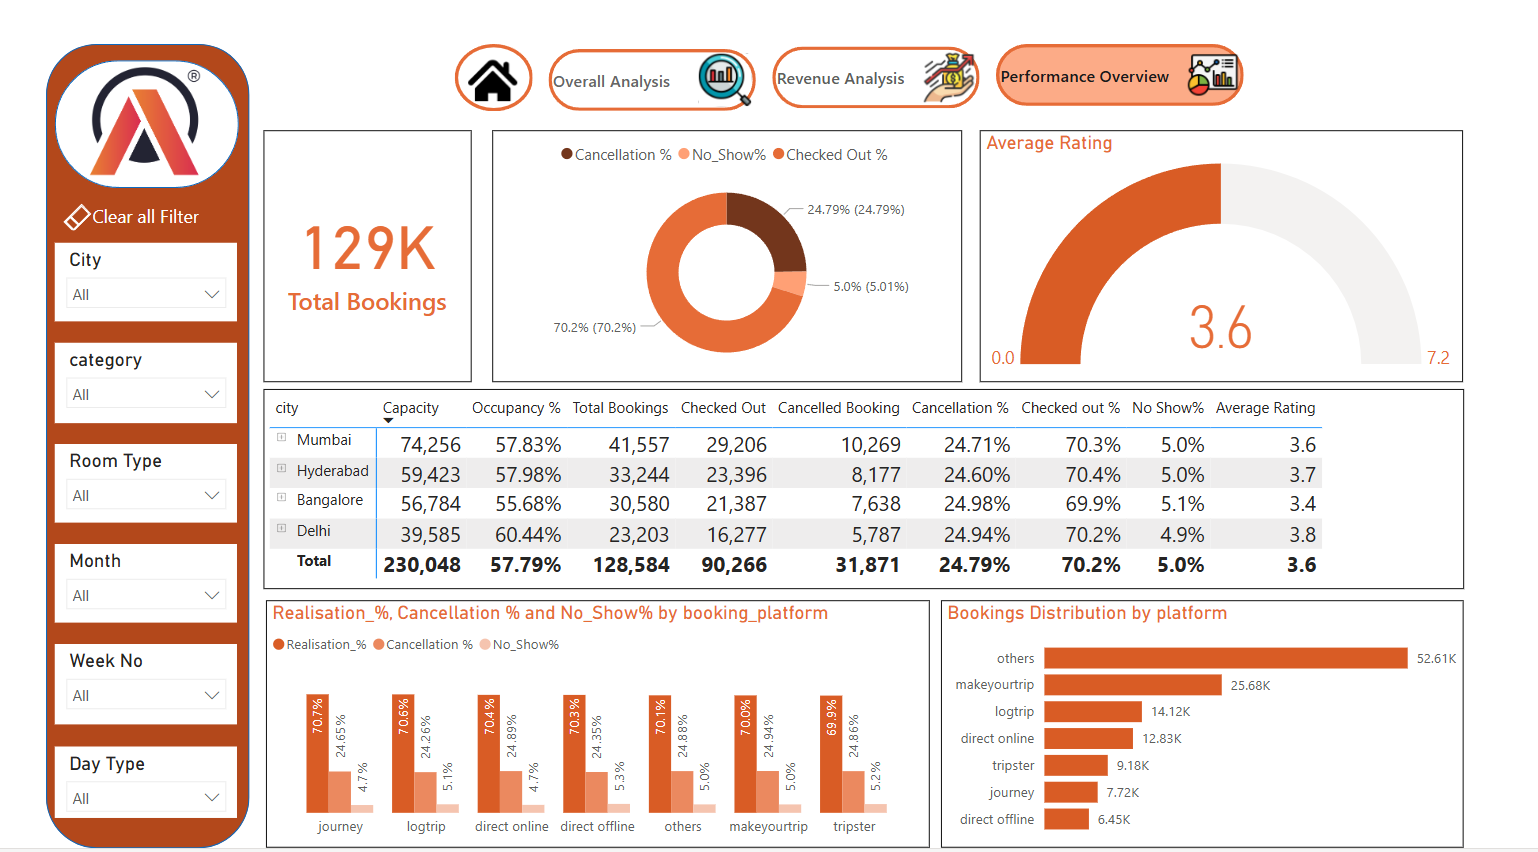

The page's visual inventory and layout, read from the dashboard file:
{"tool":"powerbi","page":{"name":"Performance Overview","canvas":[1280,720],"ordinal":3},"visuals":[{"type":"shape","box":[0,0,182.2,720.2],"z":0},{"type":"shape","box":[7.4,14.8,164.9,114.5],"z":1000},{"type":"image","box":[33.2,11.1,112,114.5],"z":2000},{"type":"slicer","fields":{"Values":["dim_date.week no"]},"box":[8.2,537.3,163.3,72.1],"z":3000},{"type":"slicer","fields":{"Values":["dim_rooms.room_class"]},"box":[8.2,358.3,163.3,70.7],"z":4000},{"type":"slicer","fields":{"Values":["dim_hotels.city"]},"box":[8.2,177.9,163.3,70.7],"z":5000},{"type":"slicer","fields":{"Values":["dim_date.mmm yy"]},"box":[8.2,447.8,163.3,70.7],"z":6000},{"type":"slicer","fields":{"Values":["dim_hotels.category"]},"box":[8.2,267.4,163.3,72.1],"z":7000},{"type":"actionButton","box":[5.4,133.3,167.3,39.5],"z":8000},{"type":"slicer","fields":{"Values":["dim_date.Day_Type"]},"box":[8.2,628.6,163.3,63.9],"z":9000},{"type":"actionButton","title":"H","box":[365.6,0,70,60.3],"z":10000},{"type":"actionButton","box":[450,4.8,185.8,55.5],"z":11000},{"type":"actionButton","box":[650.3,2.4,185.8,55.5],"z":12000},{"type":"actionButton","box":[850.5,0,222,55.5],"z":13000},{"type":"gauge","fields":{"Y":["Key_measures.Average_rating"]},"box":[836.7,77.6,432.7,225.9],"z":14000},{"type":"card","title":"Total Bookings","fields":{"Values":["Key_measures.total_bookings"]},"box":[194.6,77.6,186.4,225.9],"z":15000},{"type":"donutChart","fields":{"Y":["Key_measures.Cancellation %","Key_measures.No_Show%","Key_measures.Realisation_%"]},"box":[400,77.6,420.4,225.9],"z":16000},{"type":"pivotTable","fields":{"Rows":["dim_hotels.city","dim_hotels.category","dim_hotels.property_name","dim_rooms.room_class"],"Values":["Sum(fact_aggregated_bookings.capacity)","Key_measures.Occupancy %","Key_measures.total_bookings","Key_measures.Total_checked_out","Key_measures.Total_cancelled_booking","Key_measures.Cancellation %","Key_measures.Realisation_%","Key_measures.No_Show%","Key_measures.Average_rating"]},"box":[194.6,308.8,1074.8,179.6],"z":17000},{"type":"clusteredColumnChart","fields":{"Category":["fact_bookings.booking_platform"],"Y":["Key_measures.Realisation_%","Key_measures.Cancellation %","Key_measures.No_Show%"]},"box":[197.3,498,594.6,221.8],"z":18000},{"type":"clusteredBarChart","title":"Bookings Distribution by platform","fields":{"Category":["fact_bookings.booking_platform"],"Y":["Key_measures.total_bookings"]},"box":[801.4,498,468,221.8],"z":19000}]}

Visuals, with their boxes in screenshot pixels (x1, y1, x2, y2), scaled from the page's 1280x720 canvas onto the 1538x852 screenshot:
shape: box=[0, 0, 219, 851]
shape: box=[9, 18, 207, 153]
image: box=[40, 13, 174, 149]
slicer - dim_date.week no: box=[10, 636, 206, 721]
slicer - dim_rooms.room_class: box=[10, 424, 206, 508]
slicer - dim_hotels.city: box=[10, 211, 206, 294]
slicer - dim_date.mmm yy: box=[10, 530, 206, 614]
slicer - dim_hotels.category: box=[10, 316, 206, 402]
actionButton: box=[6, 158, 208, 204]
slicer - dim_date.Day_Type: box=[10, 744, 206, 819]
"H" actionButton: box=[439, 0, 523, 71]
actionButton: box=[541, 6, 764, 71]
actionButton: box=[781, 3, 1005, 69]
actionButton: box=[1022, 0, 1289, 66]
gauge - Key_measures.Average_rating: box=[1005, 92, 1525, 359]
"Total Bookings" card: box=[234, 92, 458, 359]
donutChart - Key_measures.Cancellation % x Key_measures.No_Show%: box=[481, 92, 986, 359]
pivotTable - dim_hotels.city x dim_hotels.category: box=[234, 365, 1525, 578]
clusteredColumnChart - fact_bookings.booking_platform x Key_measures.Realisation_%: box=[237, 589, 952, 851]
"Bookings Distribution by platform" clusteredBarChart: box=[963, 589, 1525, 851]
